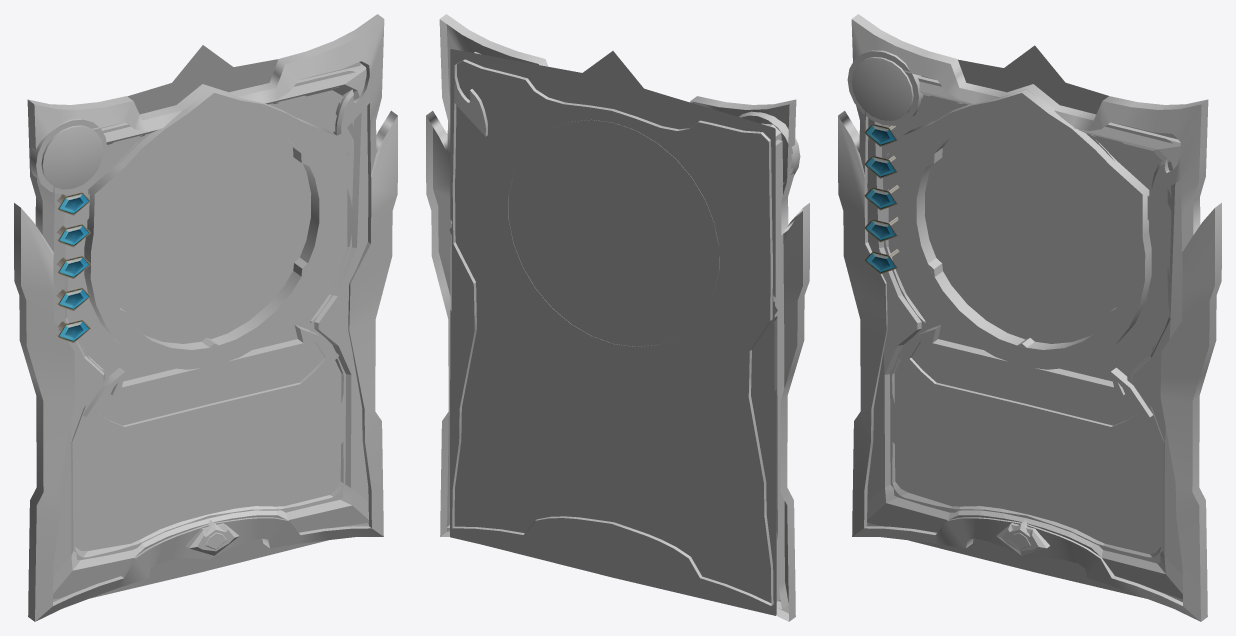
The model's file is Spell_OnHand.fbx.
3 renders of one model, left to right at view 1: azimuth 30°, elevation 25°; view 2: azimuth 150°, elevation 25°; view 3: azimuth 330°, elevation 25°, orthographic.
Visible parts, largest first — view 1: Print, SpellHigh_Frame, SpellLow_Frame, back, raity_Legendary, Shard004, Shard005, Shard003, Shard001, Shard002; view 2: back, SpellHigh_Frame, SpellLow_Frame; view 3: Print, SpellHigh_Frame, SpellLow_Frame, back, raity_Legendary.
Boxes of the visible parts, left/top/right/bottom form: Print: left=68, top=62, right=360, bottom=550; SpellHigh_Frame: left=14, top=14, right=397, bottom=621; SpellLow_Frame: left=38, top=62, right=368, bottom=599; back: left=90, top=45, right=327, bottom=598; raity_Legendary: left=185, top=520, right=239, bottom=555; Shard004: left=56, top=282, right=90, bottom=310; Shard005: left=56, top=315, right=90, bottom=342; Shard003: left=56, top=251, right=90, bottom=278; Shard001: left=55, top=191, right=90, bottom=215; Shard002: left=54, top=222, right=90, bottom=247; back: left=449, top=49, right=777, bottom=615; SpellHigh_Frame: left=426, top=14, right=809, bottom=621; SpellLow_Frame: left=446, top=111, right=793, bottom=609; Print: left=888, top=76, right=1177, bottom=554; SpellHigh_Frame: left=838, top=14, right=1221, bottom=621; SpellLow_Frame: left=850, top=51, right=1182, bottom=599; back: left=909, top=45, right=1146, bottom=598; raity_Legendary: left=996, top=520, right=1049, bottom=555.
Size of the model in its own units: 3.69 by 4.94 by 0.2788.
